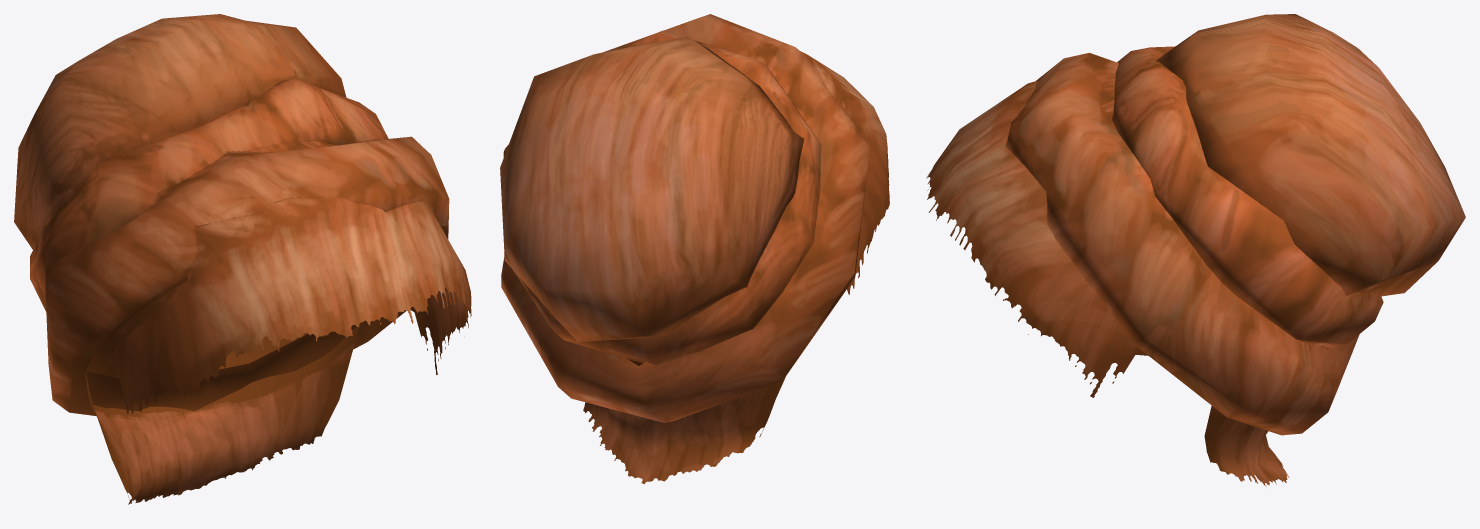
The model's file is Female Bard Hair.fbx.
The picture shows the model from 3 angles, left to right: view 1: azimuth 30°, elevation 25°; view 2: azimuth 150°, elevation 25°; view 3: azimuth 270°, elevation 25°; orthographic projection. The views are drawn at different scales.
Visible parts, largest first — view 1: Female Hair; view 2: Female Hair; view 3: Female Hair.
Boxes of the visible parts, left/top/right/bottom form: Female Hair: left=14, top=14, right=471, bottom=504; Female Hair: left=500, top=14, right=889, bottom=483; Female Hair: left=926, top=14, right=1465, bottom=486.
Size of the model in its own units: 0.192 by 0.2471 by 0.2566.
Materials: 1 (1 with a texture image).
